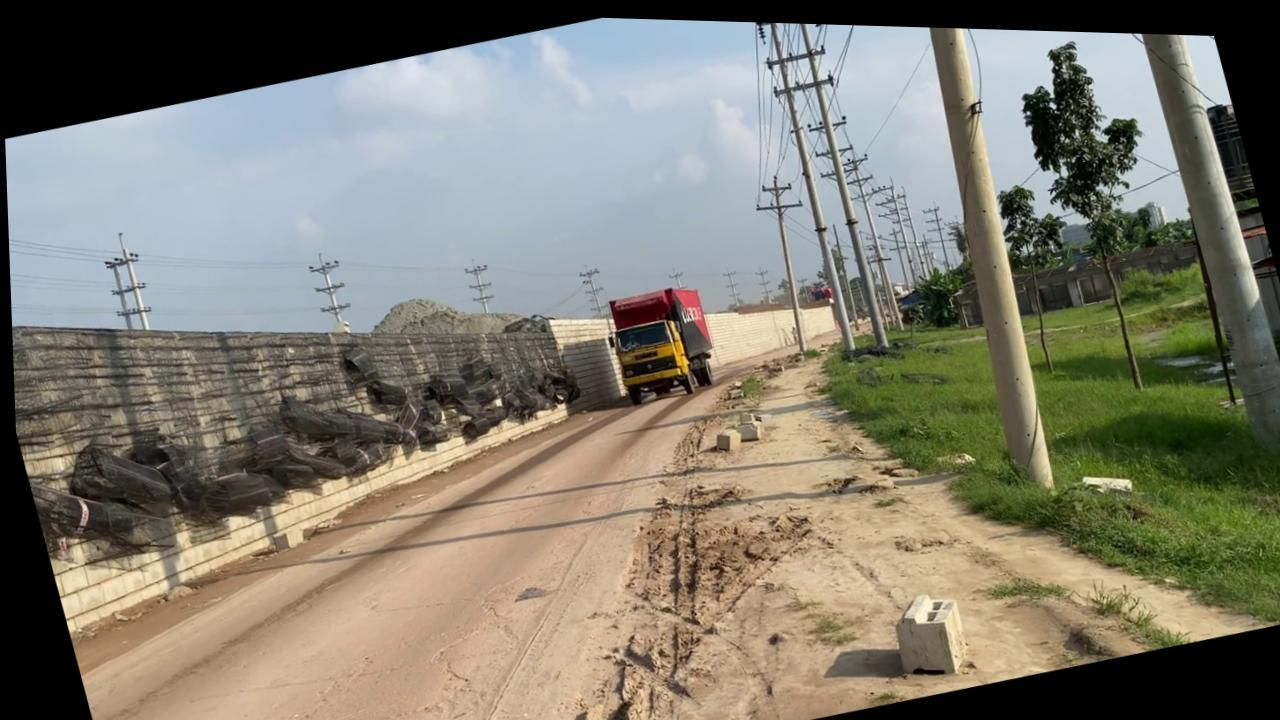Curb: (28, 381, 601, 644)
Garbage: (9, 304, 596, 573)
Obstacle: (877, 578, 969, 679), (708, 419, 741, 449)
Pole: (879, 20, 1085, 494), (1109, 26, 1280, 457), (783, 18, 900, 345), (753, 18, 863, 347)
Rickshaw: (647, 250, 1270, 720)
Traffic-sign: (1001, 23, 1203, 395), (986, 167, 1099, 370)
Tree: (595, 274, 721, 405)
Upstairs: (6, 195, 617, 645)
